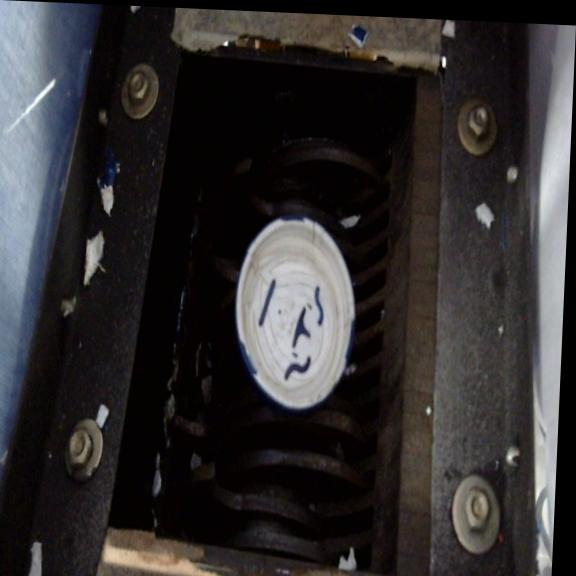Plastik: (215, 193, 376, 434)
